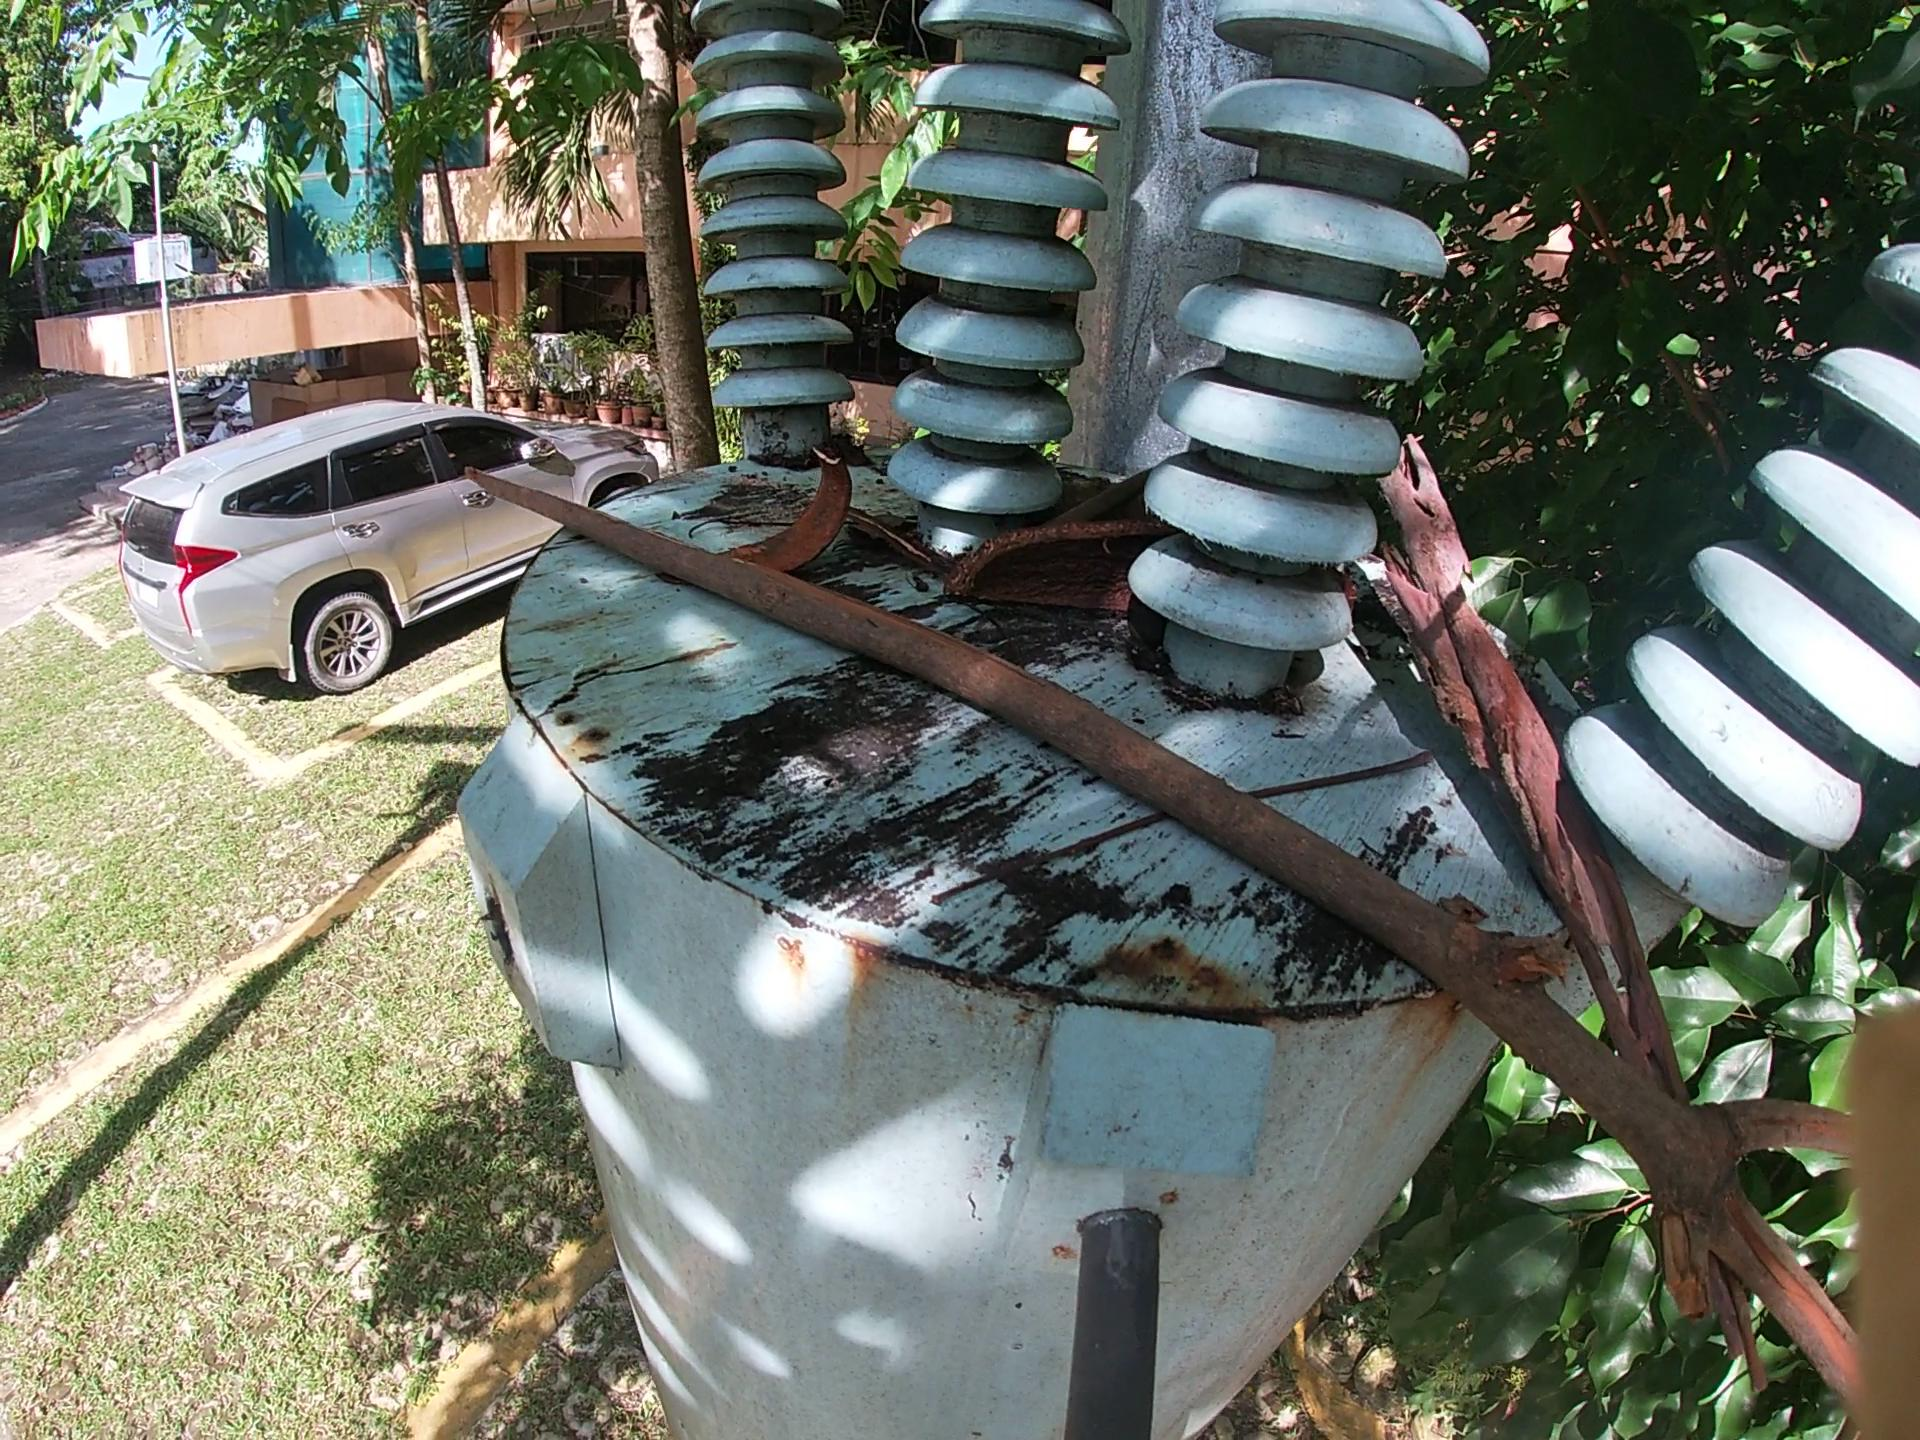mahogany fruit: (931, 523, 1169, 622), (732, 451, 865, 573)
tree branch: (463, 464, 1903, 1426), (1382, 451, 1788, 1392), (912, 743, 1453, 906), (1030, 455, 1178, 529), (851, 505, 940, 569), (685, 504, 810, 548)
